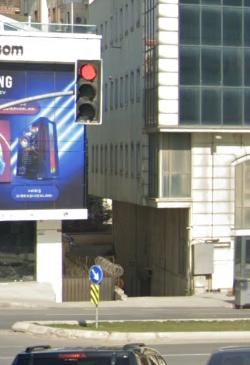redlight: (78, 60, 103, 120)
